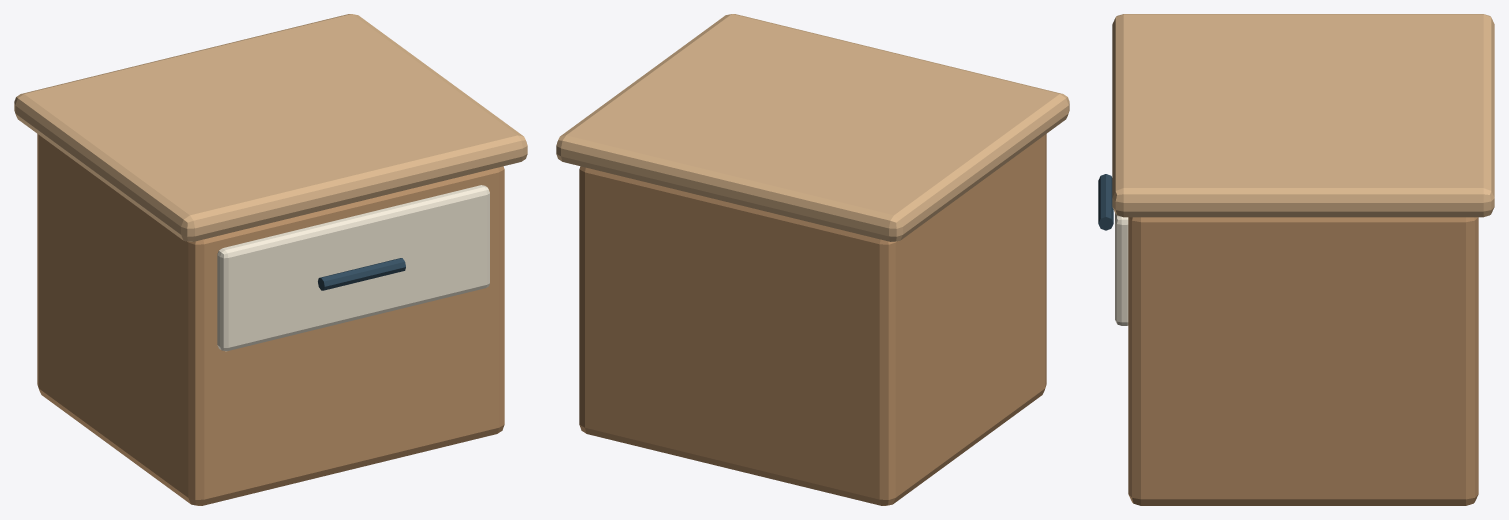
File: bedside_table.glb
The picture shows the model from 3 angles, left to right: view 1: azimuth 30°, elevation 25°; view 2: azimuth 150°, elevation 25°; view 3: azimuth 270°, elevation 25°; orthographic projection. The views are drawn at different scales.
Visible parts, largest first — view 1: bedside_table_Mesh; view 2: bedside_table_Mesh; view 3: bedside_table_Mesh.
Boxes of the visible parts, x1,y1,x2,y2 form: bedside_table_Mesh: (14, 14, 527, 505); bedside_table_Mesh: (556, 14, 1069, 505); bedside_table_Mesh: (1098, 14, 1494, 505).
Bounding box in the file's own units: 0.68 × 0.565 × 0.622.
